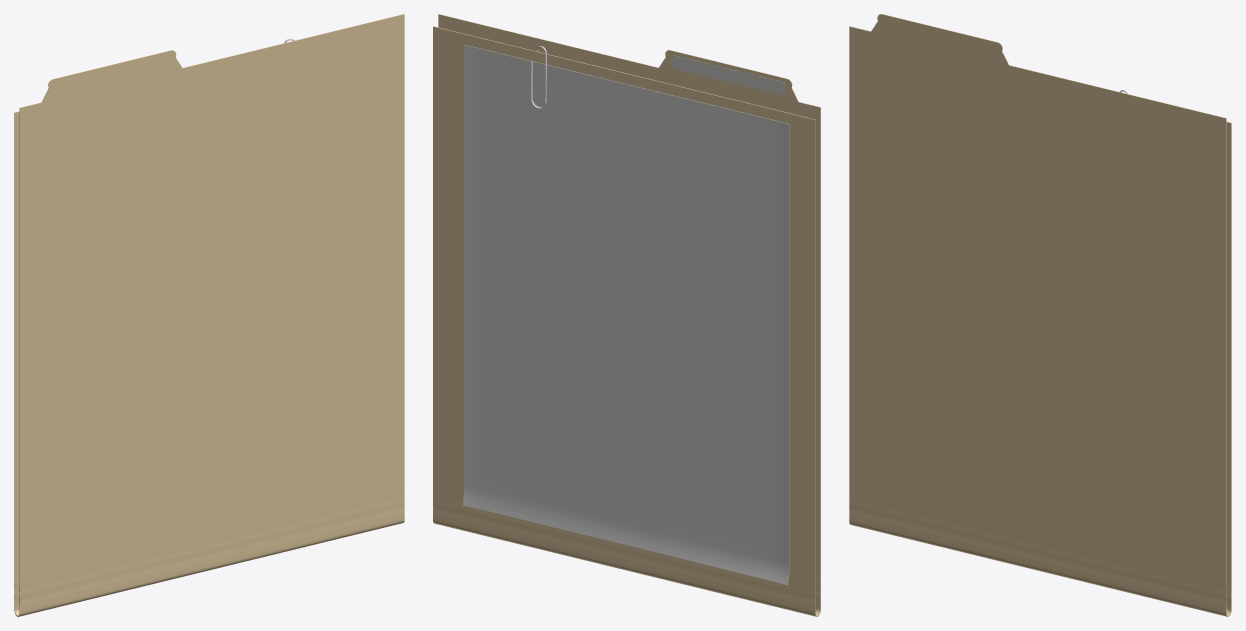
Rendered from Inspect_Folder.fbx.
The picture shows the model from 3 angles, left to right: view 1: azimuth 30°, elevation 25°; view 2: azimuth 150°, elevation 25°; view 3: azimuth 330°, elevation 25°; orthographic projection. The views are drawn at different scales.
Parts seen in each view (by area): view 1: Inspect_Folder; view 2: Inspect_Folder; view 3: Inspect_Folder.
Boxes of the visible parts, x1=… form: Inspect_Folder: x1=14, y1=14, x2=404, y2=616; Inspect_Folder: x1=433, y1=14, x2=820, y2=616; Inspect_Folder: x1=849, y1=14, x2=1231, y2=616.
Bounding box in the file's own units: 0.235 × 0.31 × 0.00867.
